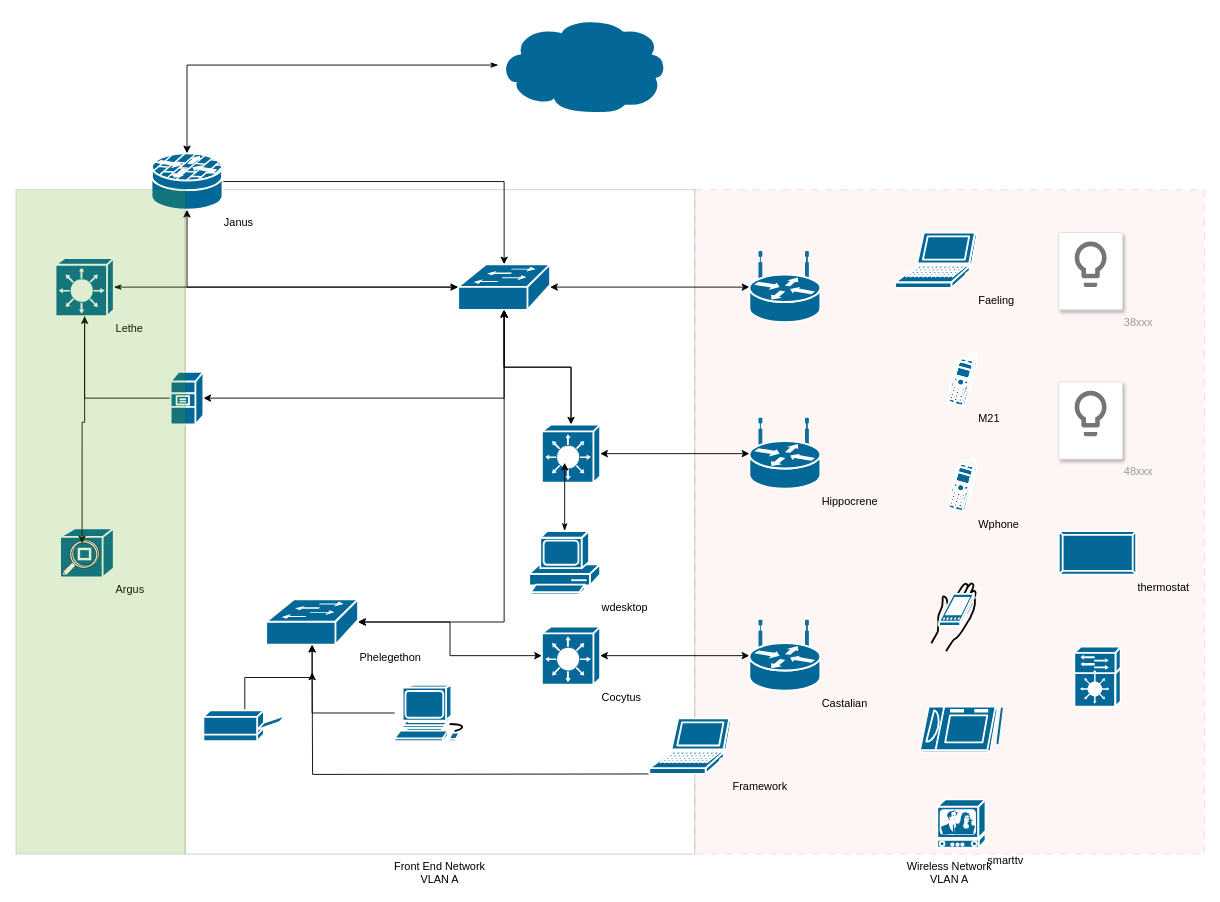
The diagram is 1220 pixels wide and 902 high, and some of its shapes have lost their labels. The centre of each missing label's shape, as x and y in pixels:
Acheron: [571,453]
Internet: [582,64]
m23110103: [1097,676]
NAS: [186,397]
printer: [244,725]
Slim: [431,712]
smartwatch: [953,616]
Styx: [504,286]
Thermopyle: [784,287]
wreader: [961,729]
